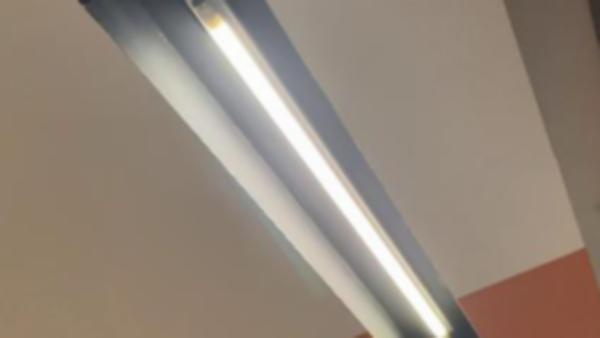light_on: (163, 0, 465, 338)
